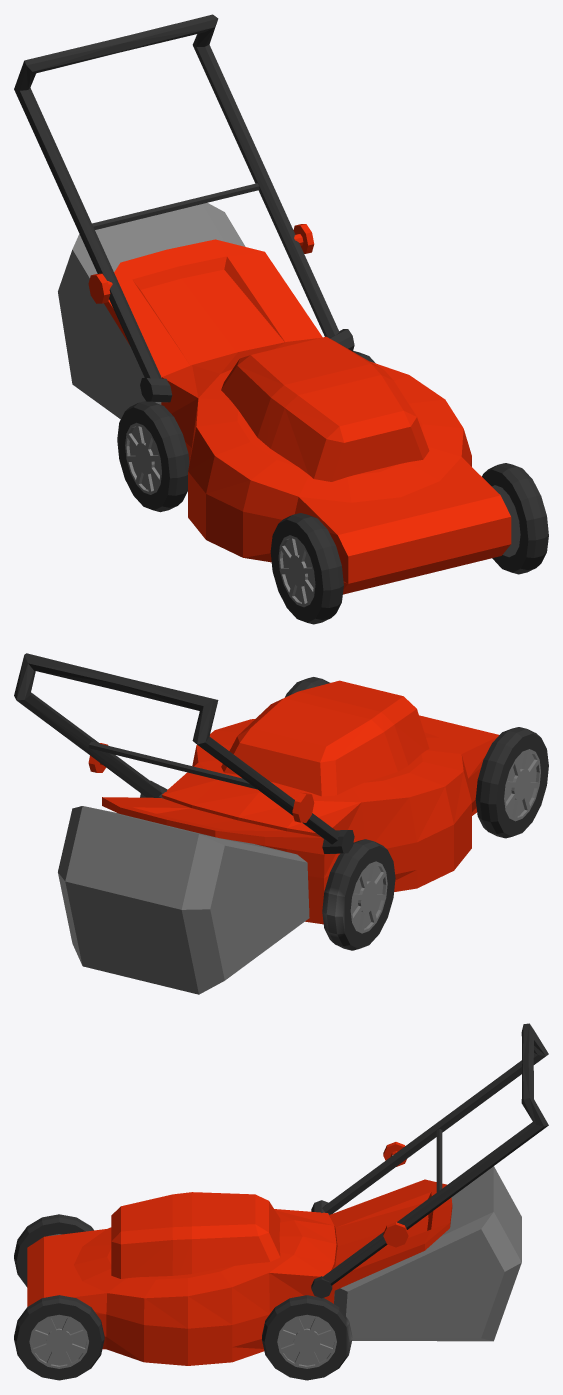
The model's file is 53112885-4635-40f0-abf0-0356e2a8e490.glb.
The picture shows the model from 3 angles, top to bottom: view 1: azimuth 30°, elevation 25°; view 2: azimuth 150°, elevation 25°; view 3: azimuth 270°, elevation 25°; orthographic projection. The views are drawn at different scales.
Visible parts, largest first — view 1: Lawn_Mower; view 2: Lawn_Mower; view 3: Lawn_Mower.
Boxes of the visible parts, x1=… form: Lawn_Mower: x1=14, y1=14, x2=548, y2=624; Lawn_Mower: x1=14, y1=653, x2=548, y2=994; Lawn_Mower: x1=14, y1=1023, x2=548, y2=1380.
Size of the model in its own units: 51.96 by 68.94 by 120.
1 material, 1 textured.
